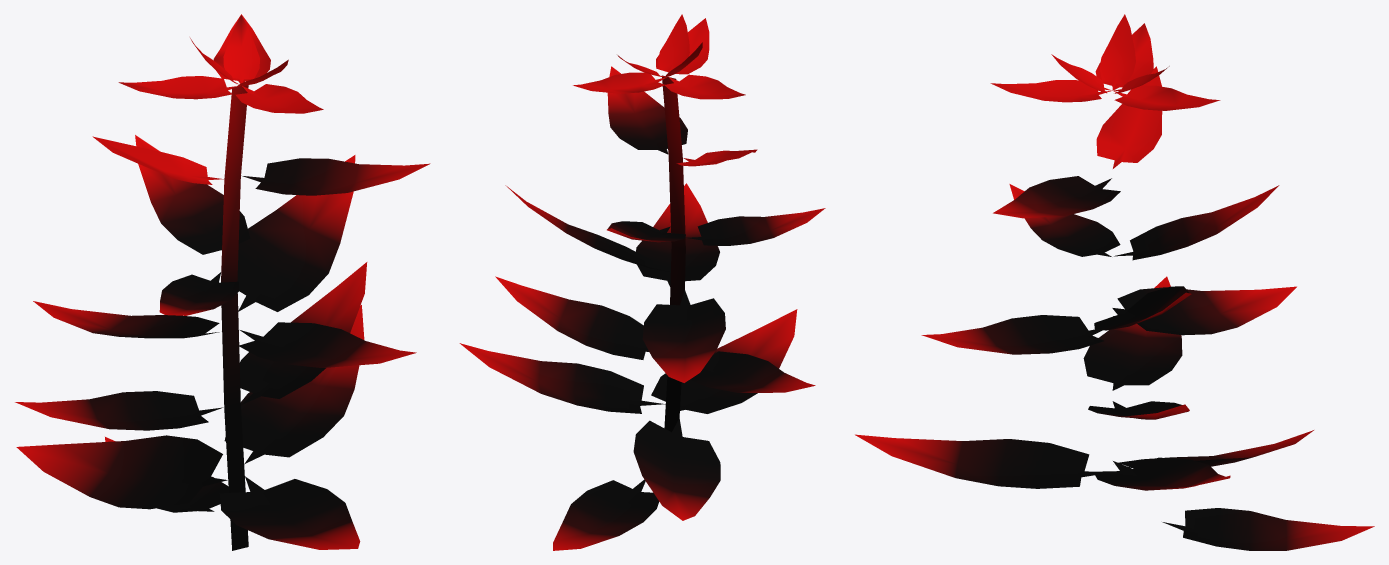
File: SM_Nettle_01_LOD1.fbx
3 renders of one model, left to right at view 1: azimuth 30°, elevation 25°; view 2: azimuth 150°, elevation 25°; view 3: azimuth 270°, elevation 25°, orthographic. The views are drawn at different scales.
Visible parts, largest first — view 1: SM_Nettle_01_LOD1; view 2: SM_Nettle_01_LOD1; view 3: SM_Nettle_01_LOD1.
Boxes of the visible parts, box(x1,y1,x2,y2) form: SM_Nettle_01_LOD1: box(15, 14, 430, 550); SM_Nettle_01_LOD1: box(459, 14, 825, 550); SM_Nettle_01_LOD1: box(855, 14, 1374, 550).
Size of the model in its own units: 108 by 131 by 141.
